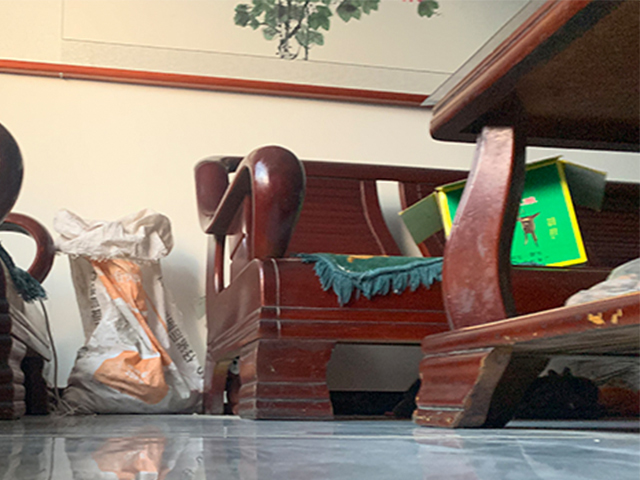sofa: (193, 145, 639, 422), (1, 123, 57, 420)
table: (411, 1, 640, 429)
wire: (36, 296, 74, 418)
